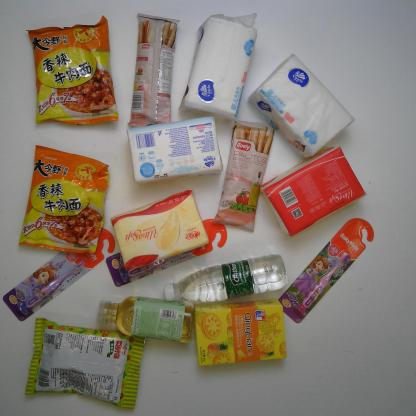Dessert: (191, 288, 307, 371), (209, 115, 277, 233), (126, 8, 189, 130)
Drink: (160, 245, 295, 307), (89, 286, 200, 350)
Instant Noodles: (13, 16, 126, 132), (14, 141, 118, 256)
Personal Hygiene: (3, 213, 121, 327), (277, 216, 383, 327), (106, 214, 230, 287)
Puffed Food: (14, 314, 172, 410)
Tissue: (246, 48, 375, 158), (257, 132, 371, 242), (176, 4, 272, 126), (105, 194, 217, 273), (126, 108, 224, 194)
